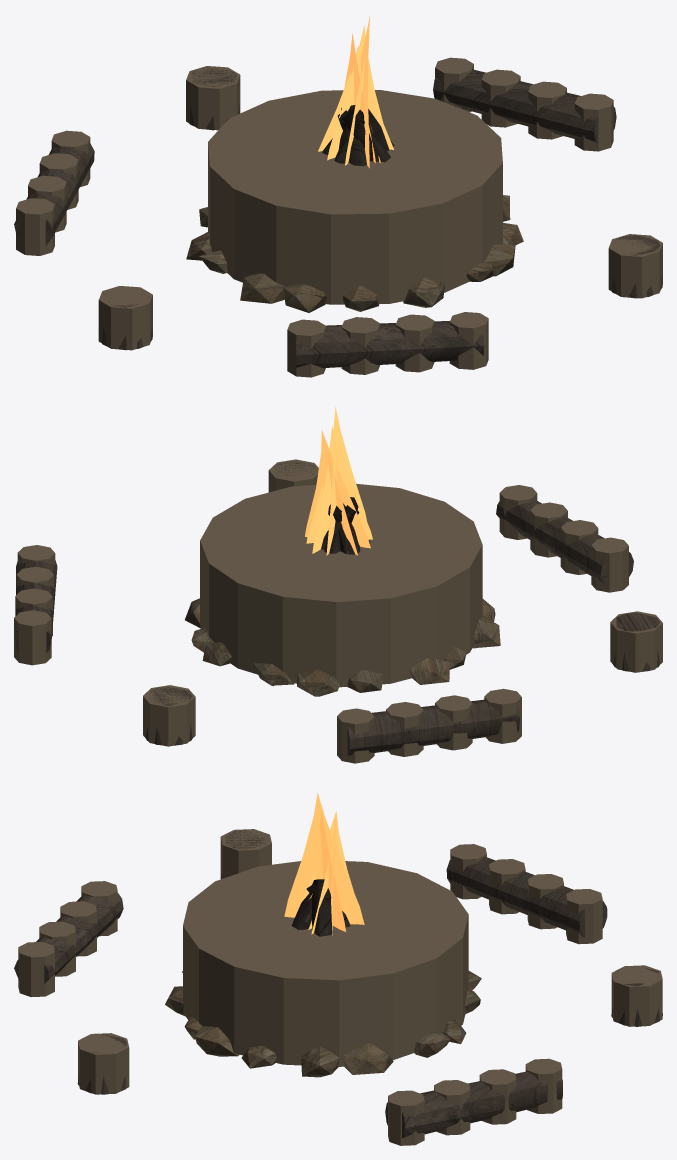
Rendered from prop_bonfire_main_tex.glb.
3 renders of one model, top to bottom at view 1: azimuth 30°, elevation 25°; view 2: azimuth 150°, elevation 25°; view 3: azimuth 270°, elevation 25°, orthographic. The views are drawn at different scales.
Parts seen in each view (by area): view 1: col_fire, seats, ring_stones, flames, col_seat_4, col_seat_5, col_seat_3, log_stack, col_seat_1_p3, col_seat_0_p0, col_seat_2_p3, col_seat_2_p0 (+8 smaller); view 2: col_fire, seats, ring_stones, flames, col_seat_3, col_seat_4, col_seat_0_p3, col_seat_2_p0, col_seat_1_p0, col_seat_1_p3, col_seat_5, col_seat_1_p2 (+8 smaller); view 3: col_fire, seats, ring_stones, flames, col_seat_3, col_seat_5, col_seat_4, col_seat_2_p3, col_seat_1_p0, log_stack, col_seat_0_p0, col_seat_0_p3 (+8 smaller).
Boxes of the visible parts, x1,y1,x2,y2 form: col_fire: (208,90,502,304); seats: (14,68,662,367); ring_stones: (186,195,523,312); flames: (318,16,393,168); col_seat_4: (98,286,152,350); col_seat_5: (608,234,662,298); col_seat_3: (186,66,240,130); log_stack: (322,105,394,166); col_seat_1_p3: (16,198,54,255); col_seat_0_p0: (574,93,613,151); col_seat_2_p3: (449,312,488,369); col_seat_2_p0: (287,319,326,377); col_fire: (200,483,482,687); seats: (15,461,659,755); ring_stones: (185,598,500,696); flames: (305,407,372,555); col_seat_3: (143,685,195,746); col_seat_4: (610,611,662,672); col_seat_0_p3: (14,610,51,665); col_seat_2_p0: (591,537,628,592); col_seat_1_p0: (337,708,374,763); col_seat_1_p3: (484,688,521,743); col_seat_5: (268,459,318,492); col_seat_1_p2: (435,695,472,750); col_fire: (183,861,468,1066); seats: (14,830,662,1138); ring_stones: (165,971,481,1077); flames: (284,793,364,935); col_seat_3: (611,965,662,1026); col_seat_5: (78,1033,129,1094); col_seat_4: (220,829,271,878); col_seat_2_p3: (18,942,54,997); col_seat_1_p0: (566,889,602,944); log_stack: (291,879,350,936); col_seat_0_p0: (388,1090,424,1145); col_seat_0_p3: (525,1058,562,1113).
Bounding box in the file's own units: 6.92 × 2.67 × 6.78.
6 materials, 4 textured.
